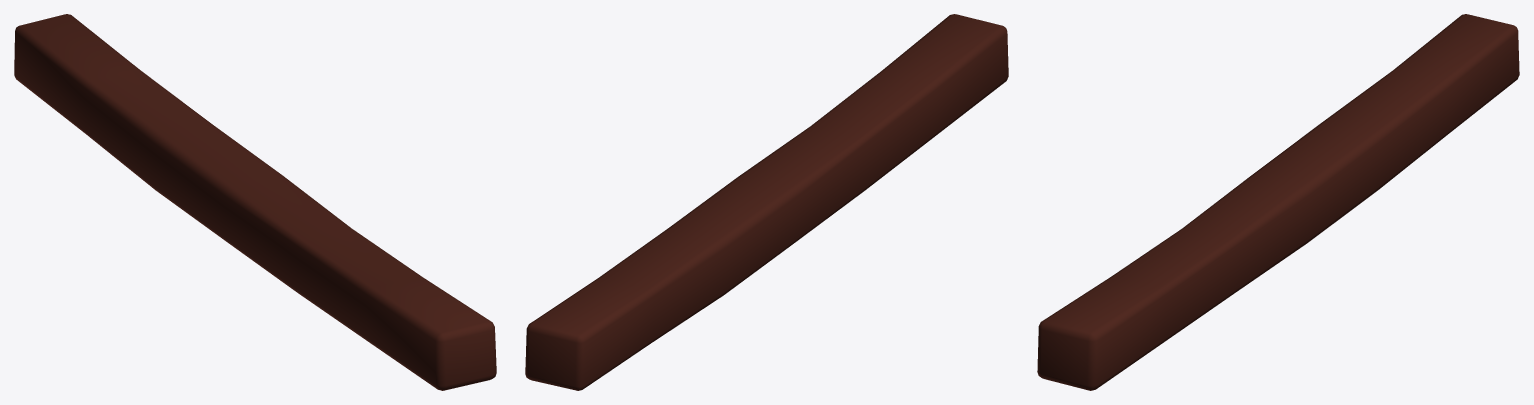
Rendered from DoorFrameBeam_mdl.fbx.
The picture shows the model from 3 angles, left to right: view 1: azimuth 30°, elevation 25°; view 2: azimuth 150°, elevation 25°; view 3: azimuth 330°, elevation 25°; orthographic projection.
Parts seen in each view (by area): view 1: Cube.098; view 2: Cube.098; view 3: Cube.098.
Part boxes in pixels (x1,y1,x2,y2): Cube.098: (14,14,496,390); Cube.098: (525,14,1008,390); Cube.098: (1037,14,1519,390).
Bounding box in the file's own units: 17.73 × 18.37 × 215.
